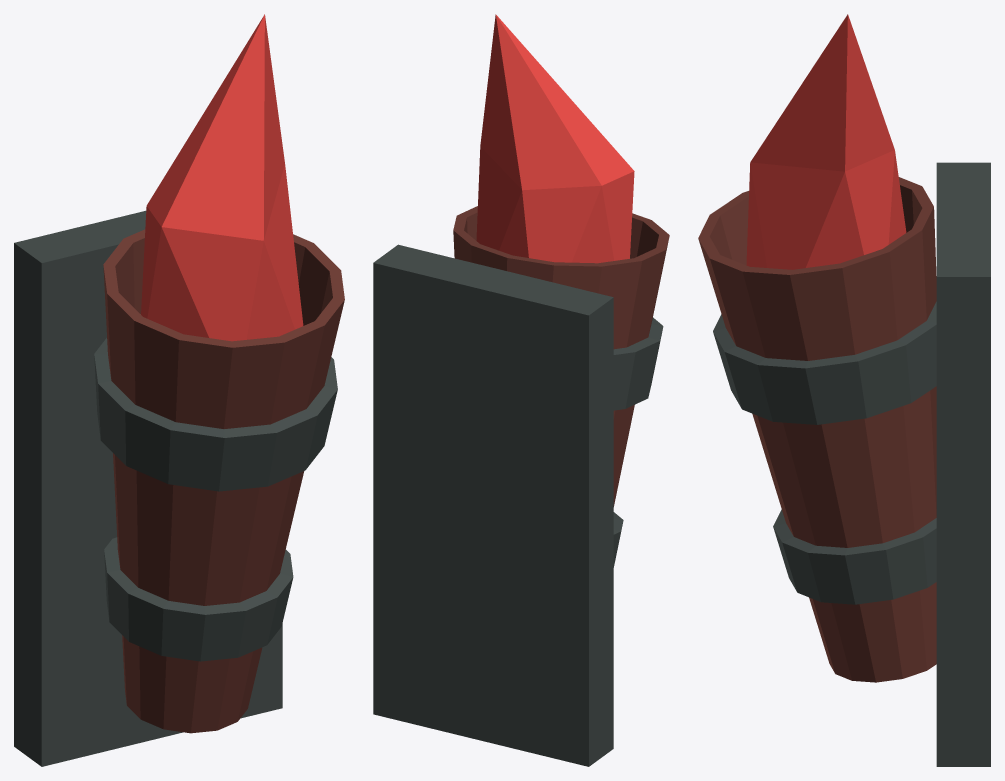
Rendered from Torch_1_Red.fbx.
3 views of the same model, side by side, from view 1: azimuth 30°, elevation 25°; view 2: azimuth 150°, elevation 25°; view 3: azimuth 270°, elevation 25° (orthographic). The views are drawn at different scales.
Parts seen in each view (by area): view 1: Torch_1_Red_Part_1, Torch_1_Red_Part_2, Torch_1_Red_Part_3; view 2: Torch_1_Red_Part_1, Torch_1_Red_Part_3, Torch_1_Red_Part_2; view 3: Torch_1_Red_Part_1, Torch_1_Red_Part_2, Torch_1_Red_Part_3.
Boxes of the visible parts, x1,y1,x2,y2 form: Torch_1_Red_Part_1: (14, 210, 337, 766); Torch_1_Red_Part_2: (103, 229, 344, 733); Torch_1_Red_Part_3: (141, 14, 303, 341); Torch_1_Red_Part_1: (373, 244, 663, 766); Torch_1_Red_Part_3: (476, 14, 634, 263); Torch_1_Red_Part_2: (453, 206, 669, 506); Torch_1_Red_Part_1: (713, 162, 990, 766); Torch_1_Red_Part_2: (698, 177, 936, 682); Torch_1_Red_Part_3: (746, 14, 906, 269).
Bounding box in the file's own units: 20 × 59.01 × 21.65.
